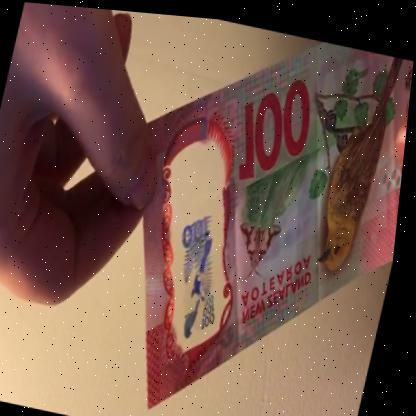100B: (162, 195, 251, 346)
